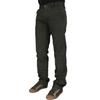abbigliamento_uomo: (35, 1, 66, 87)
